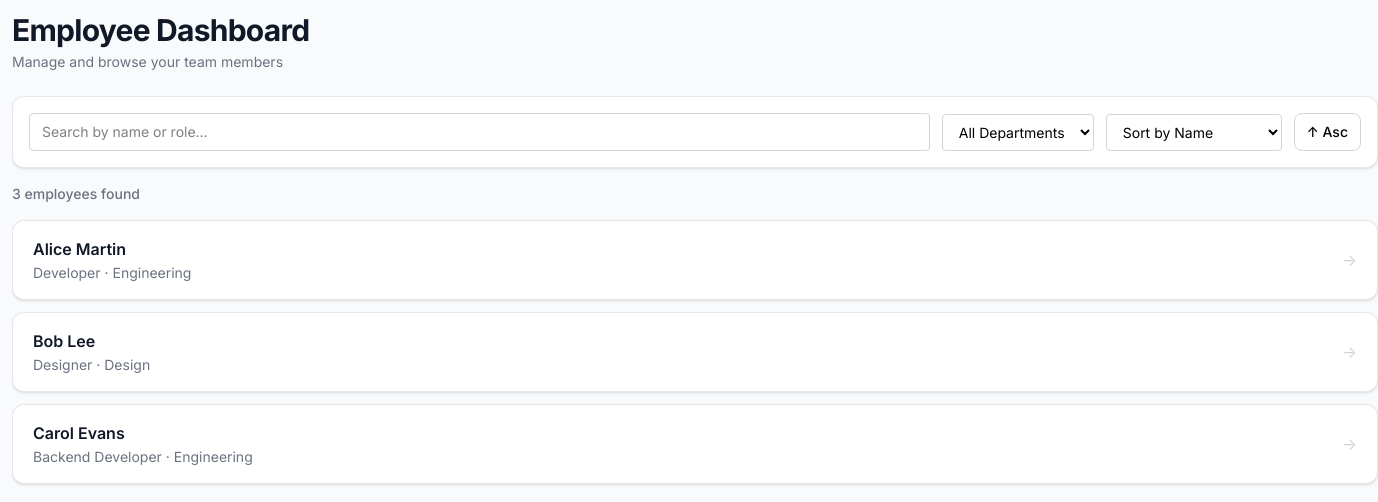
Test: EmployeesPage › shows "No employees found" when search matches nothing
Type "zzzzz" into the field with placeholder "Search by name or role…".
click(479, 132); type("zzzzz")  # box [29,113,930,151]
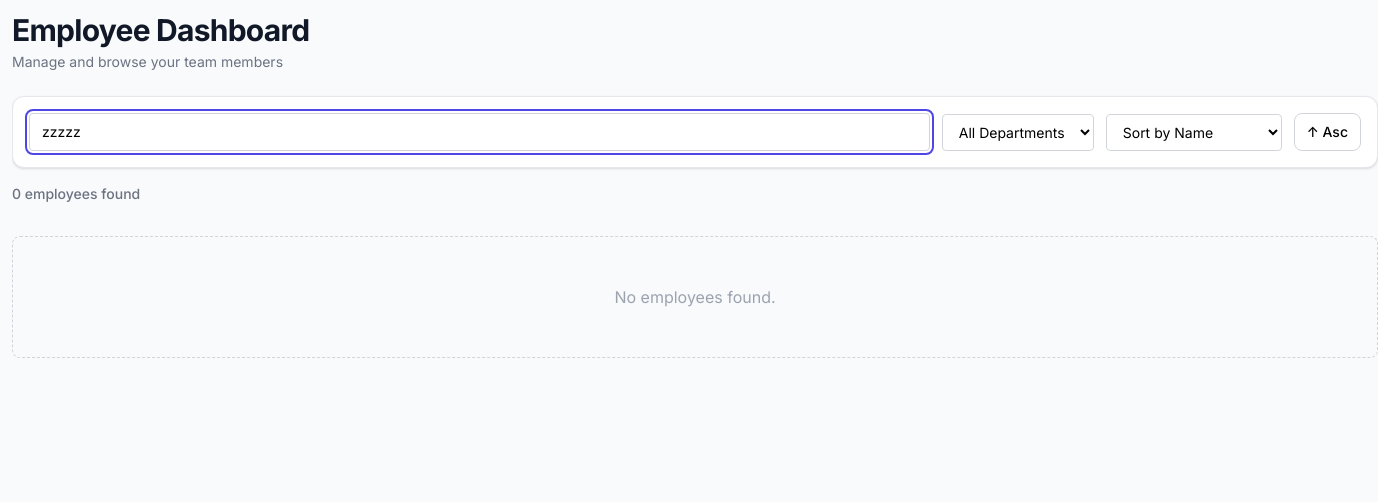
Now the text "0 employees found" is shown, box [12,184,140,204]
Now the text "No employees found." is shown, box [614,287,776,307]
